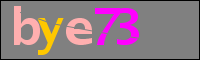3: (116, 7, 140, 47)
7: (94, 6, 117, 47)
b: (11, 4, 41, 46)
e: (65, 17, 94, 46)
y: (37, 16, 64, 57)
